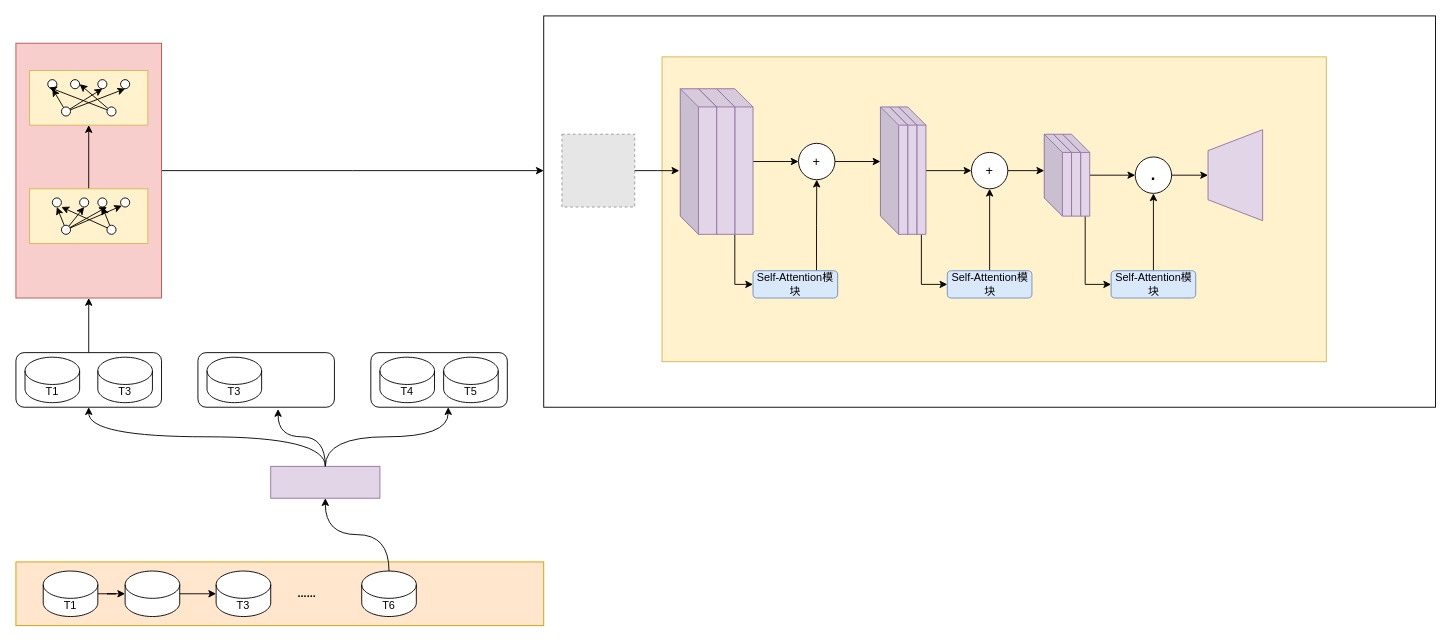
Some shapes in this 1451 by 642 pixel diagram are drawn without their labels. Grey dashed boxes stand in for pictures. The centre of each missing label's shape, as x and y in pixels:
T2: (152,593)
Task Distance: (325,481)
